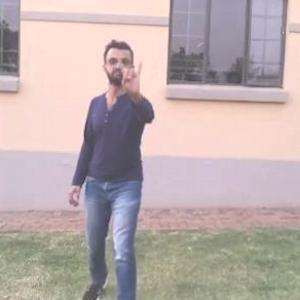takeoff-hand: (115, 54, 147, 100)
